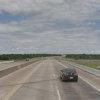Car: (58, 65, 83, 88)
